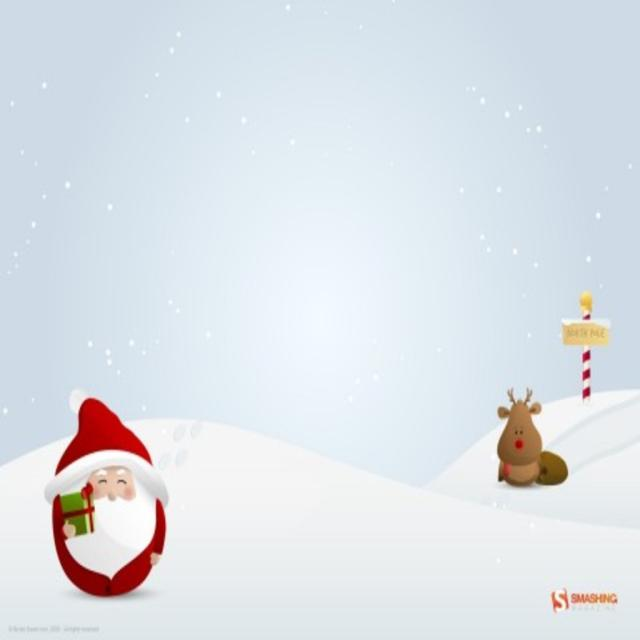Toy: (43, 389, 170, 596)
